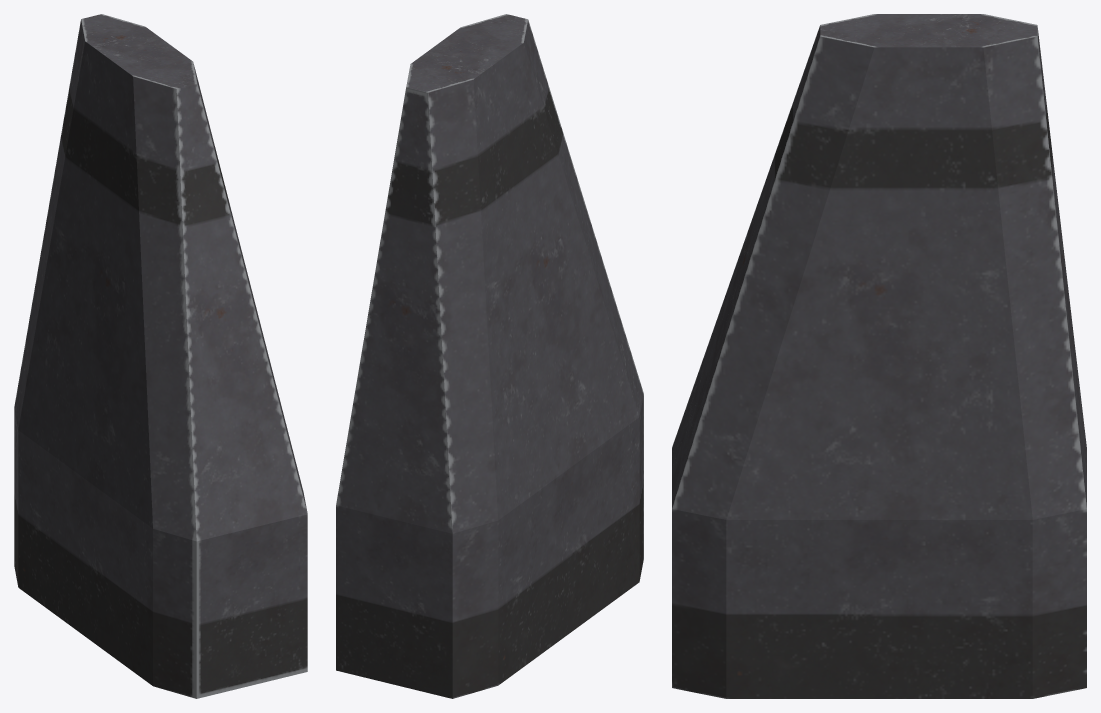
File: conn_m_1.fbx
3 renders of one model, left to right at view 1: azimuth 30°, elevation 25°; view 2: azimuth 150°, elevation 25°; view 3: azimuth 270°, elevation 25°, orthographic. The views are drawn at different scales.
Parts seen in each view (by area): view 1: conn_m_1; view 2: conn_m_1; view 3: conn_m_1.
Boxes of the visible parts, box(x1,y1,x2,y2) form: conn_m_1: box(14, 14, 307, 698); conn_m_1: box(336, 14, 643, 698); conn_m_1: box(672, 14, 1086, 698).
Bounding box in the file's own units: 3.2 × 11.2 × 6.72.
